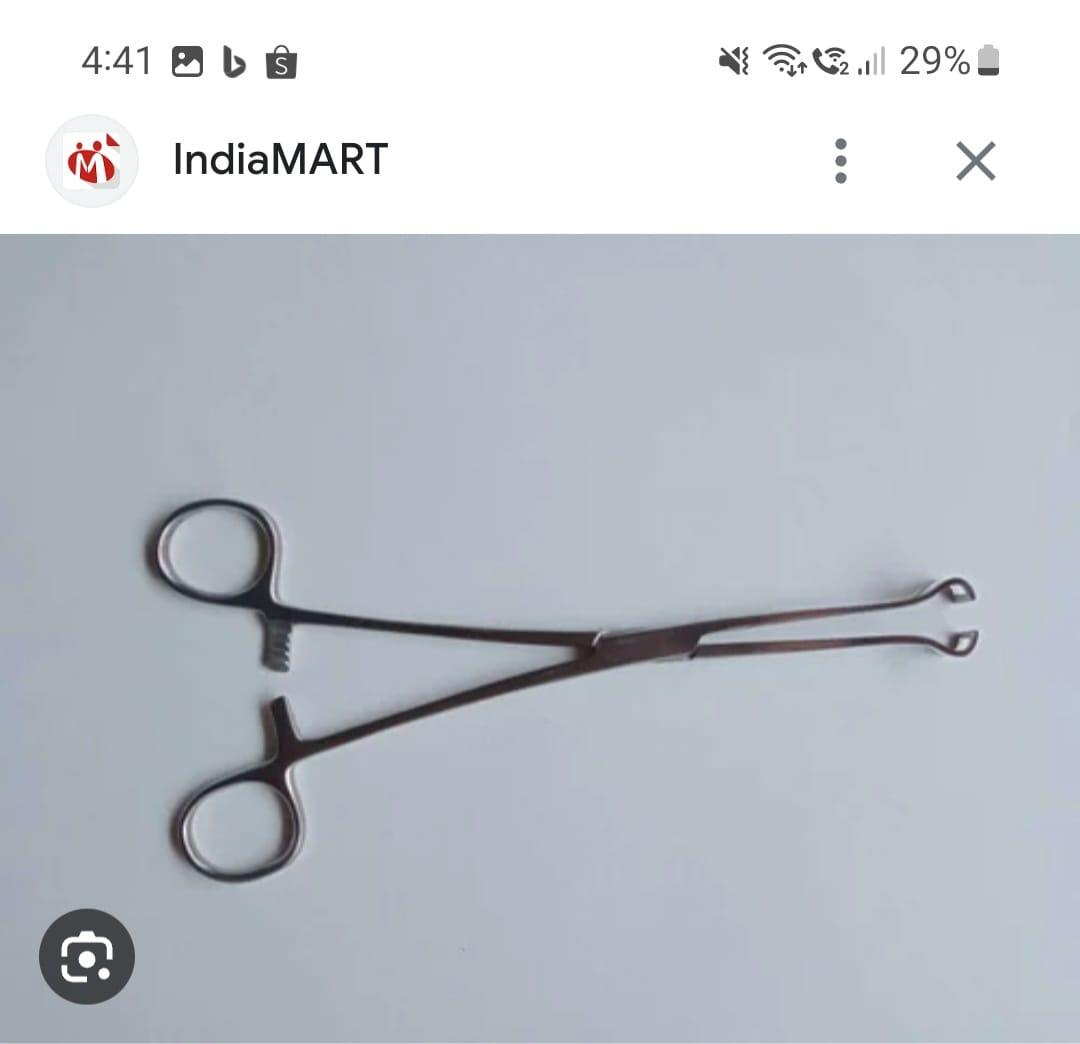Babcock Forceps: (138, 465, 995, 888)
